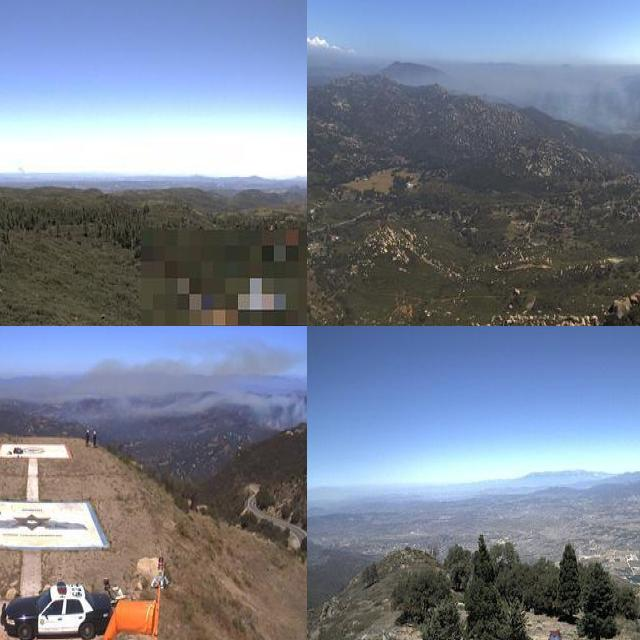smoke: (116, 341, 307, 435), (472, 61, 640, 139), (13, 158, 33, 185)
